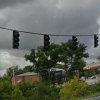Tree: (26, 40, 100, 97)
